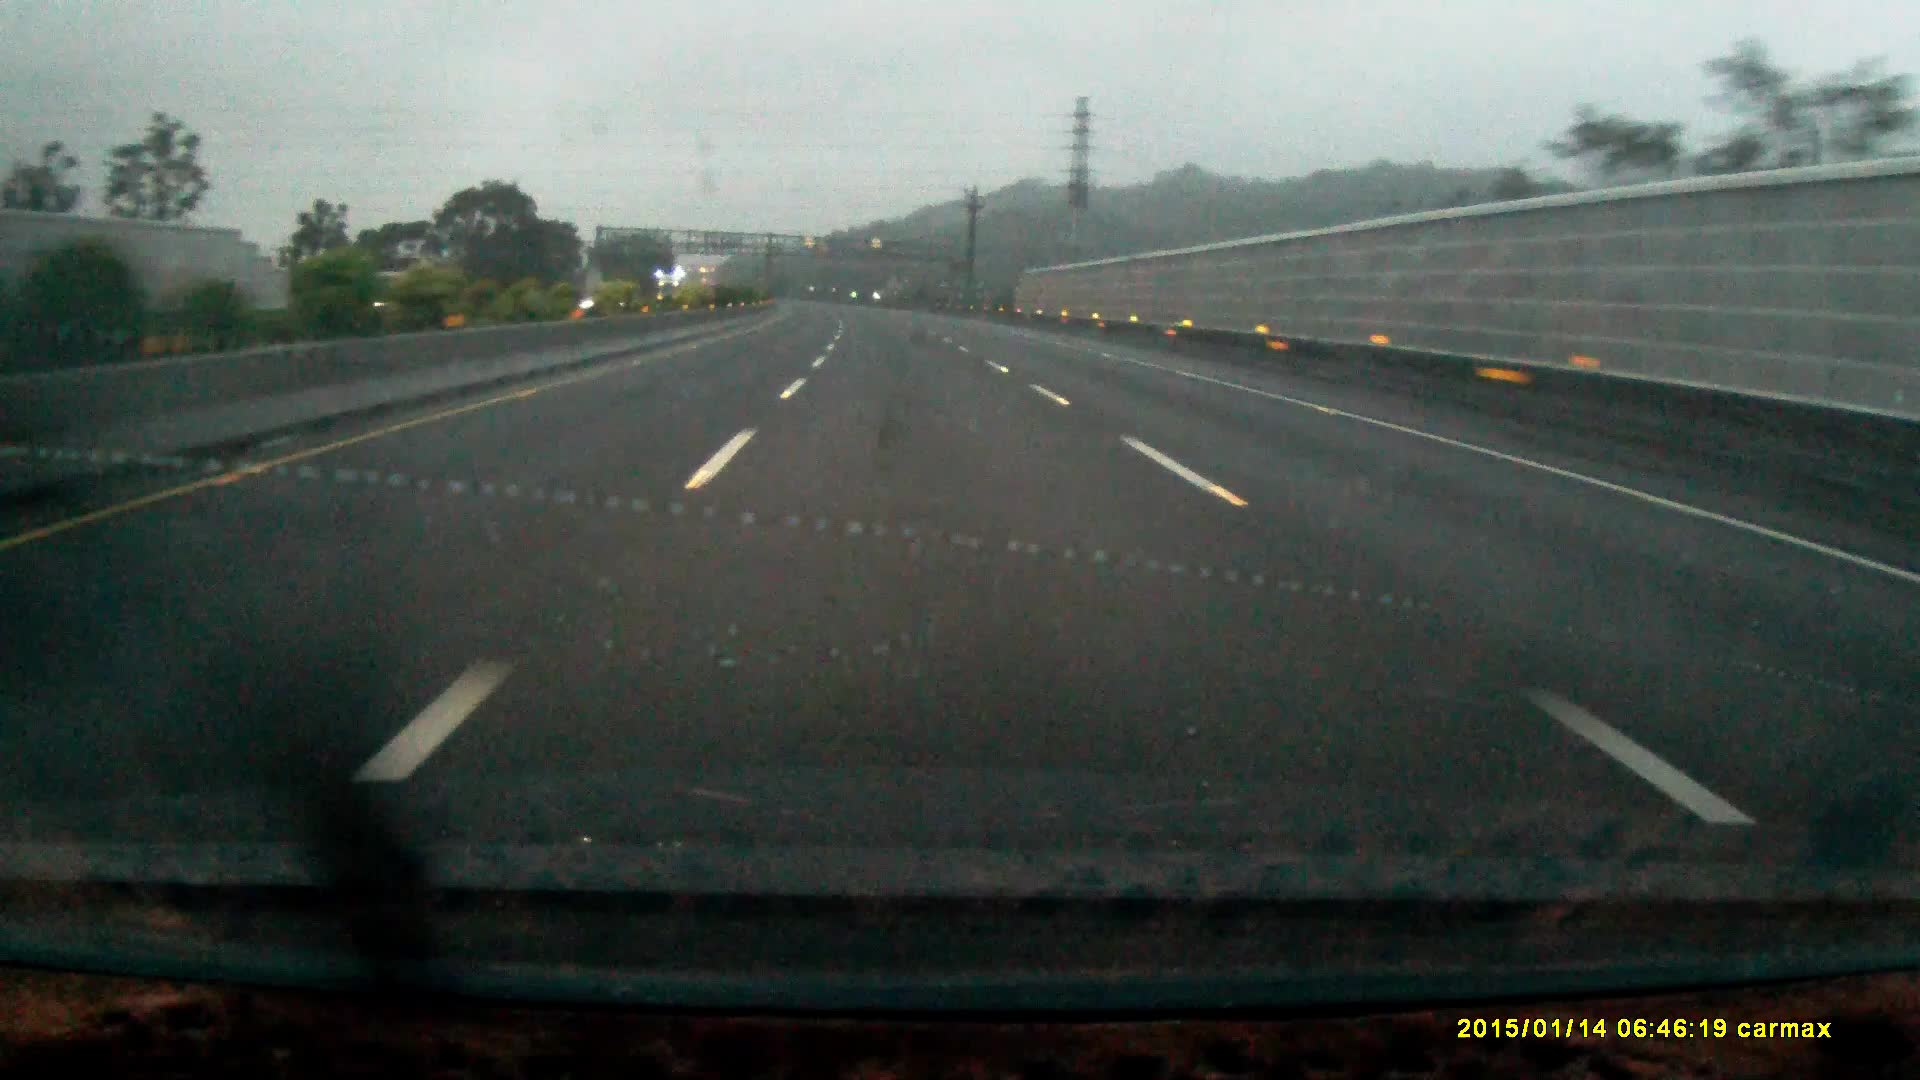vehicle: (655, 266, 694, 305)
